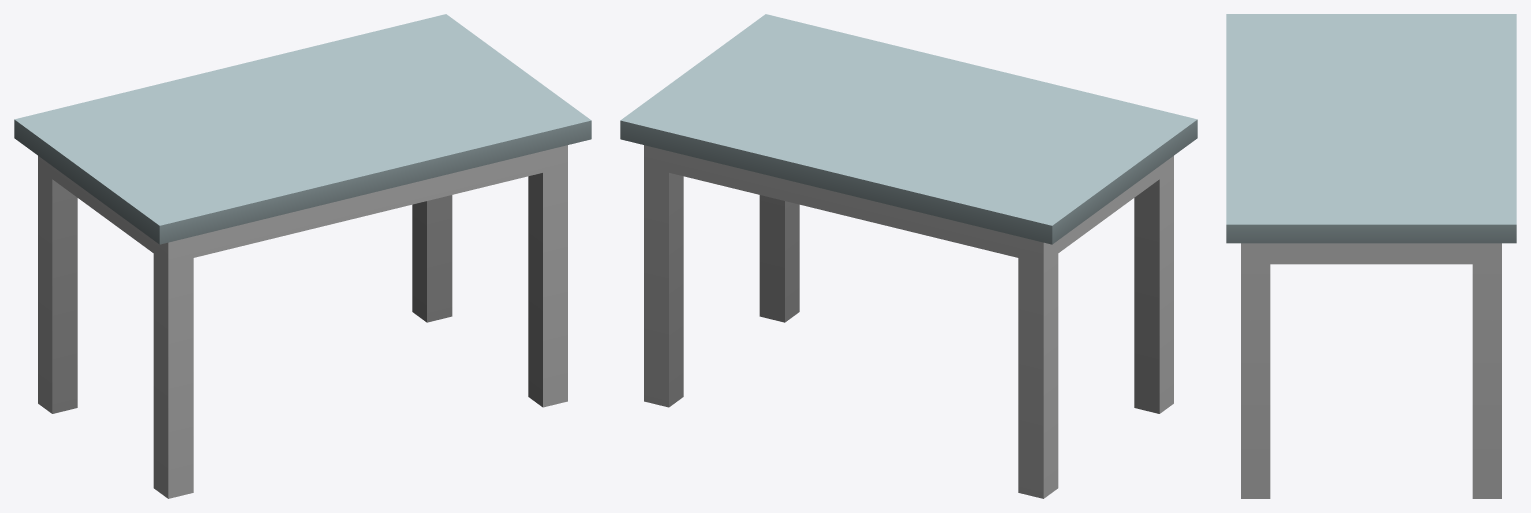
Rendered from table1.glb.
3 renders of one model, left to right at view 1: azimuth 30°, elevation 25°; view 2: azimuth 150°, elevation 25°; view 3: azimuth 270°, elevation 25°, orthographic.
Parts seen in each view (by area): view 1: Table1; view 2: Table1; view 3: Table1.
Part boxes in pixels (x1,y1,x2,y2): Table1: (14,14,591,498); Table1: (620,14,1197,498); Table1: (1226,14,1516,498).
Size of the model in its own units: 1.2 by 0.75 by 0.7.
1 material, 1 textured.
